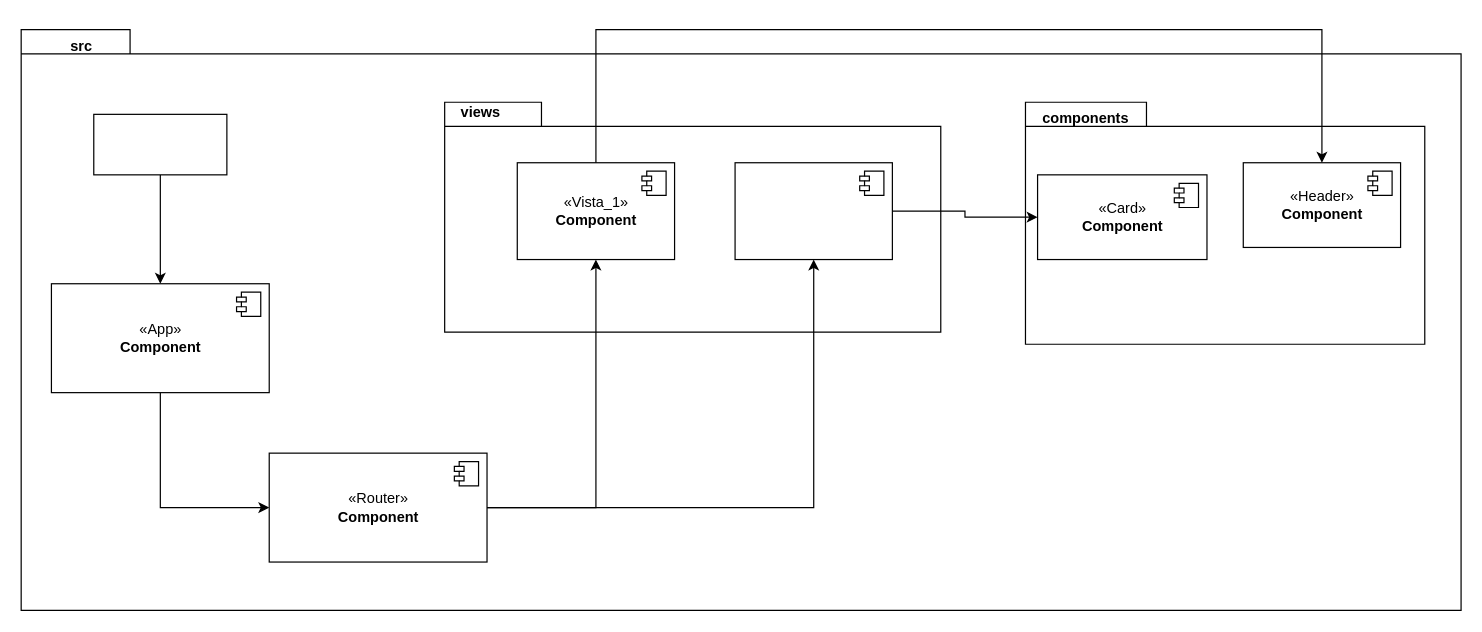
Some shapes in this 1482 by 632 pixel diagram are drawn without their labels. Each missing label, with the centre of its shape:
"main.js" belongs at pixel 160 144.
"«Vista_2» Component" belongs at pixel 813 211.
